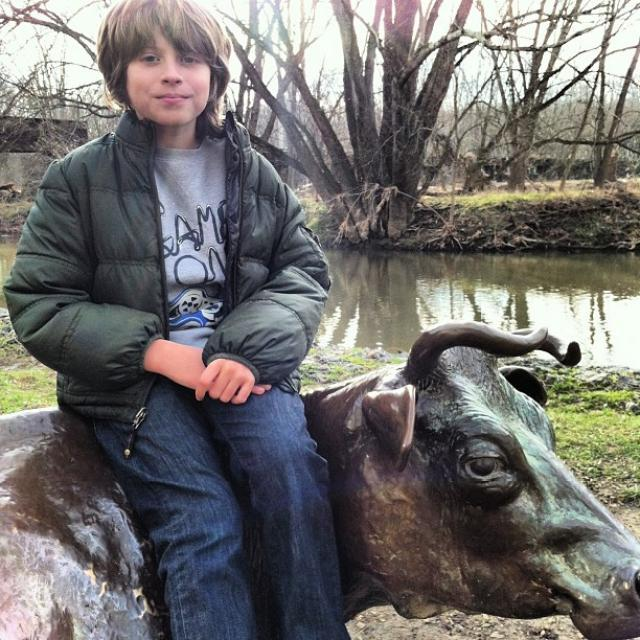cow: (0, 318, 636, 632)
